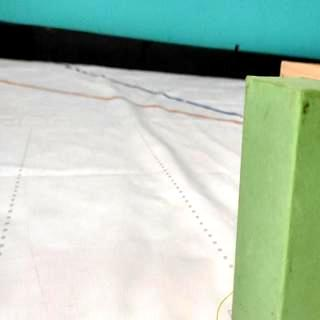greenbox: (231, 74, 320, 320)
